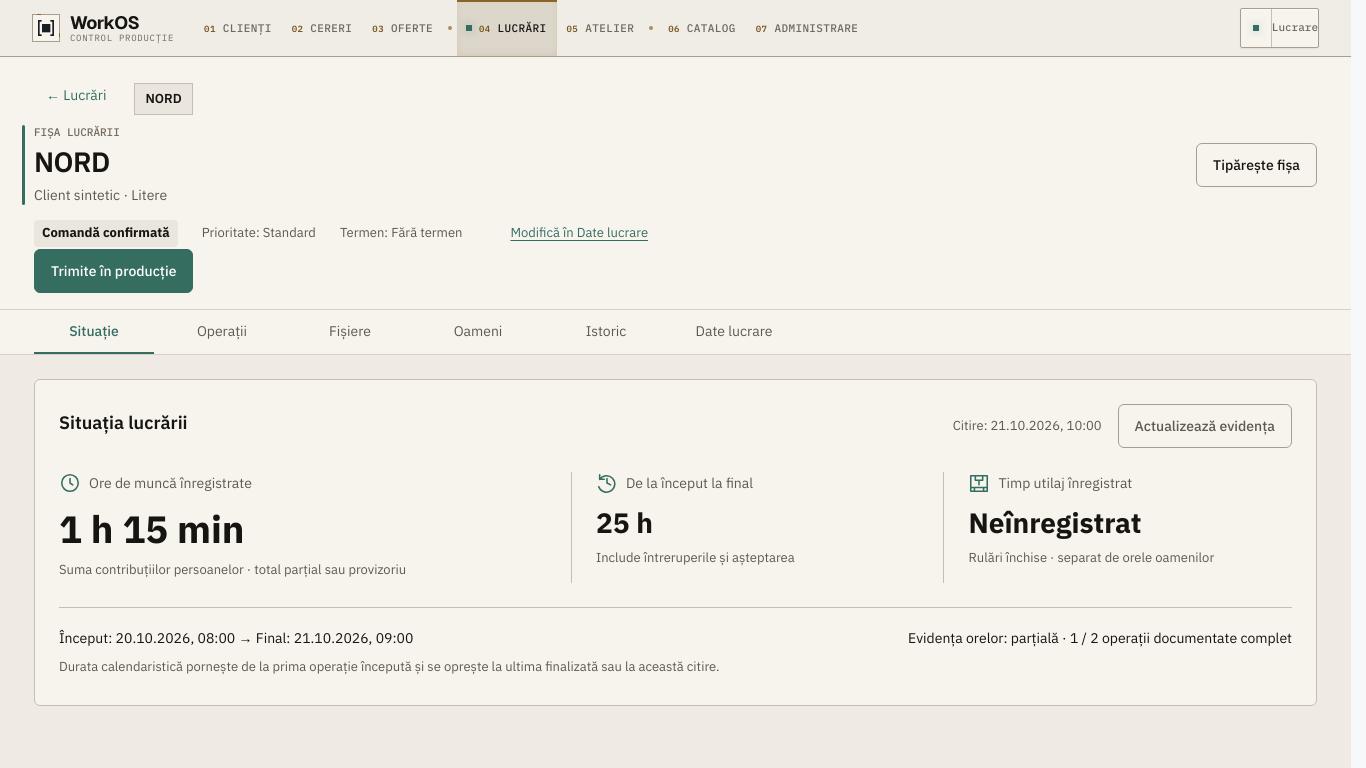
Test: simplified production journey › keeps the sheet actionable after a refusal or unconfirmed result: Lipsește configurația confirmată.
Click the button "Trimite în producție": (114, 271) [34,249,193,293]
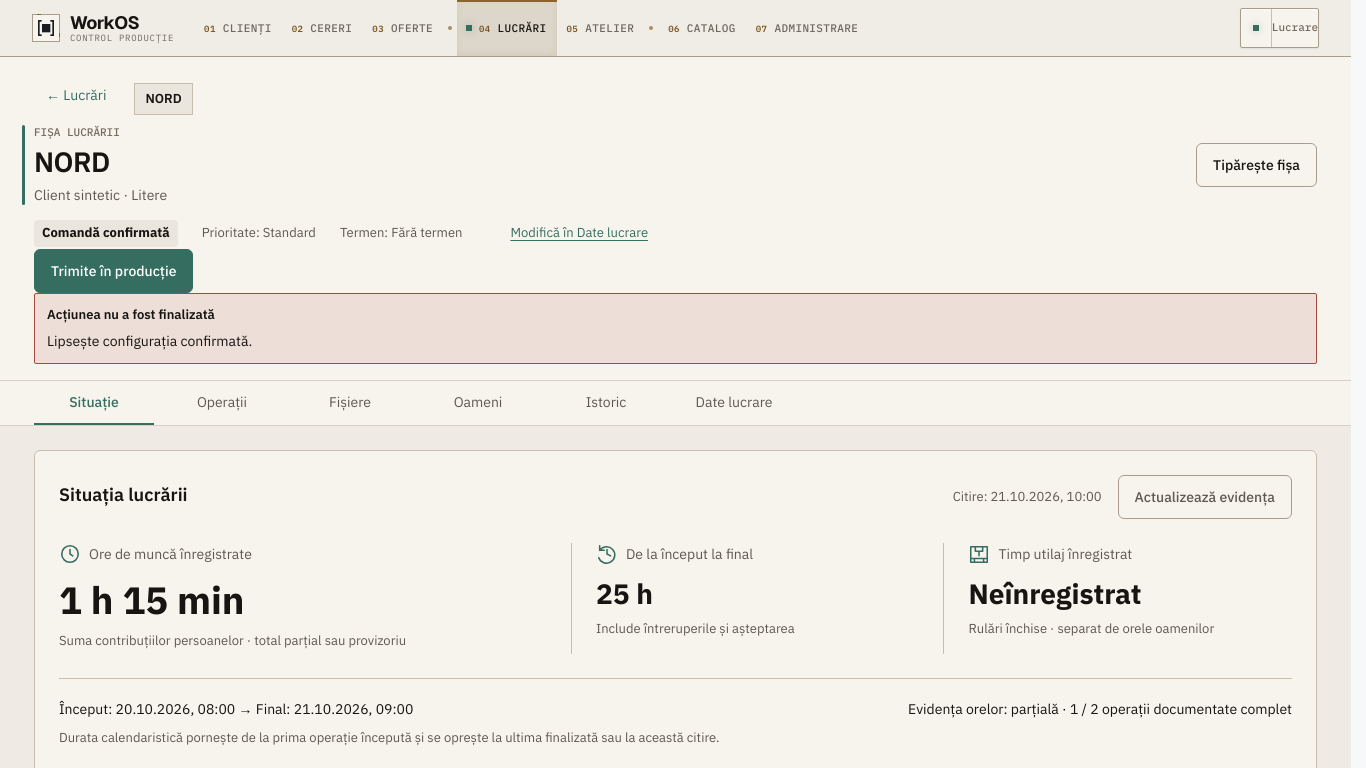
Check: the message shows "Lipsește configurația confirmată.", box [47,332,252,350]
